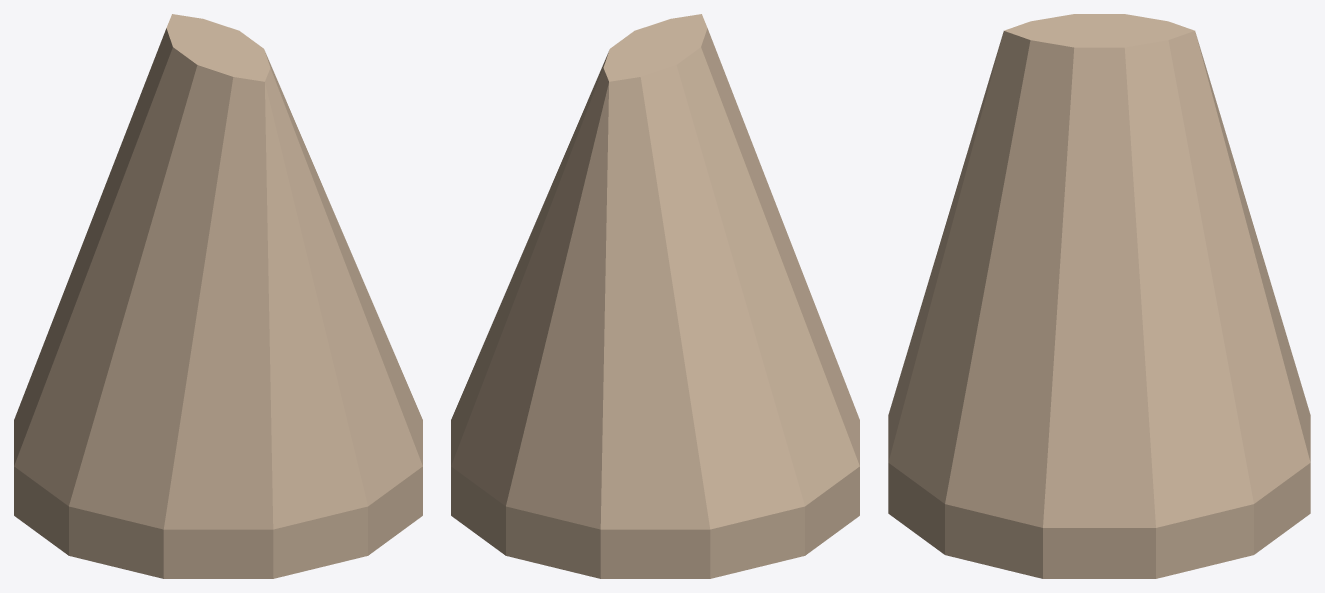
File: spektr cone collider.obj
3 renders of one model, left to right at view 1: azimuth 30°, elevation 25°; view 2: azimuth 150°, elevation 25°; view 3: azimuth 270°, elevation 25°, orthographic. The views are drawn at different scales.
Visible parts, largest first — view 1: collider; view 2: collider; view 3: collider.
Part boxes in pixels (x1,y1,x2,y2): collider: [14, 14, 422, 578]; collider: [451, 14, 859, 578]; collider: [888, 14, 1310, 578].
Size of the model in its own units: 1.88 by 2.25 by 1.88.
